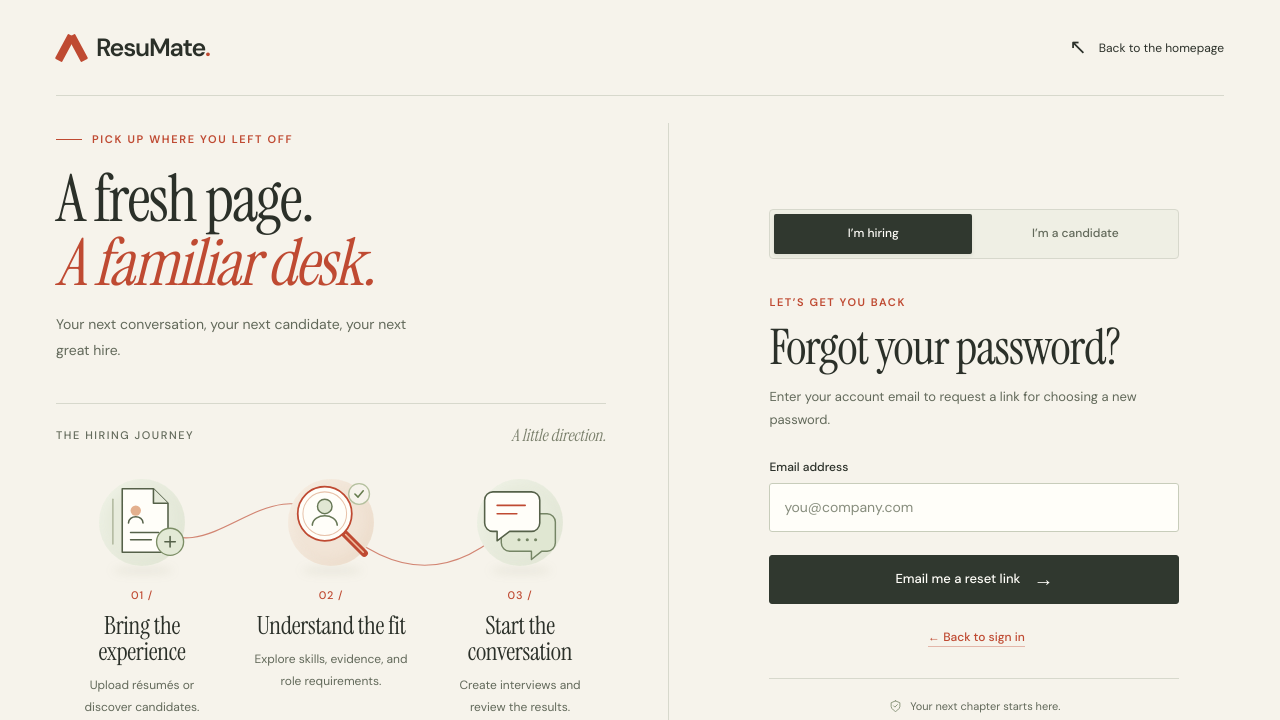
Test: asking for a link › wants an address that looks like one before sending
Click the button "Email me a reset link →". click: point(974, 579)
box: [769, 555, 1179, 604]
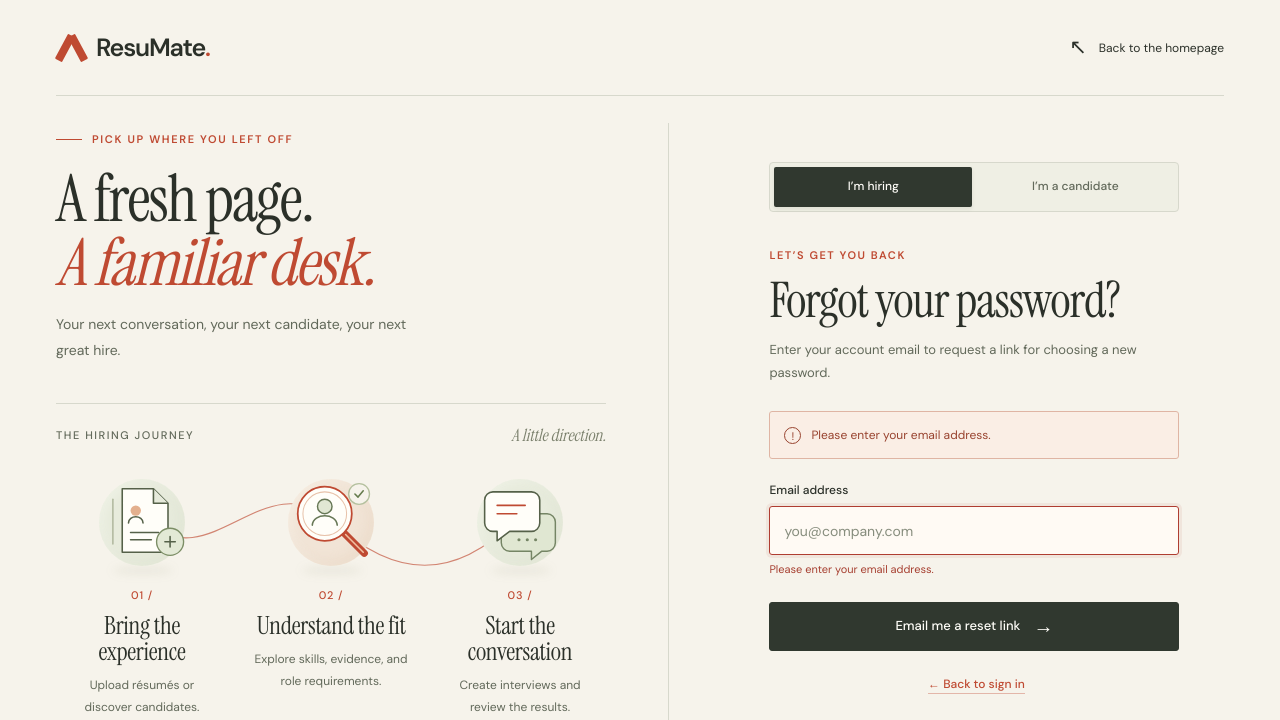
Expected: the message shows "Please enter your email address.", [811, 427, 991, 443]
Type "jane@co" into the field labelled "Email address". click: point(974, 531)
box: [769, 506, 1179, 555]
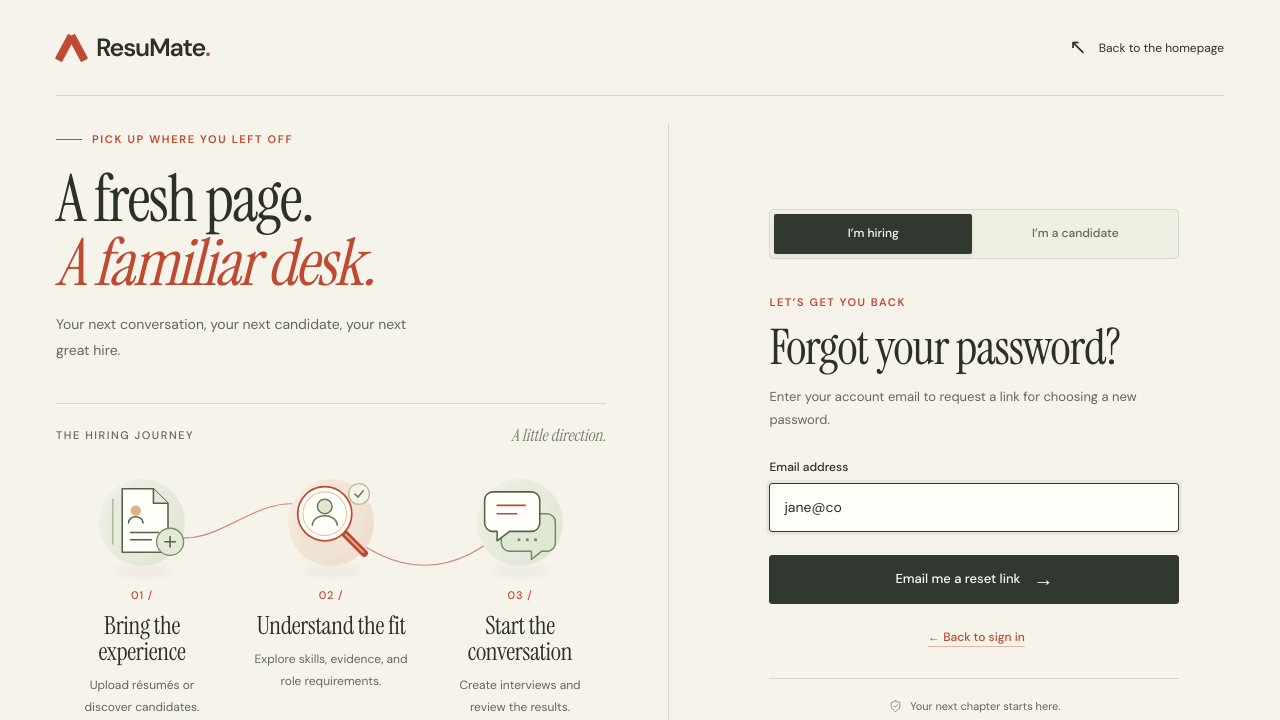
Click the button "Email me a reset link →". click: point(974, 579)
box: [769, 555, 1179, 604]
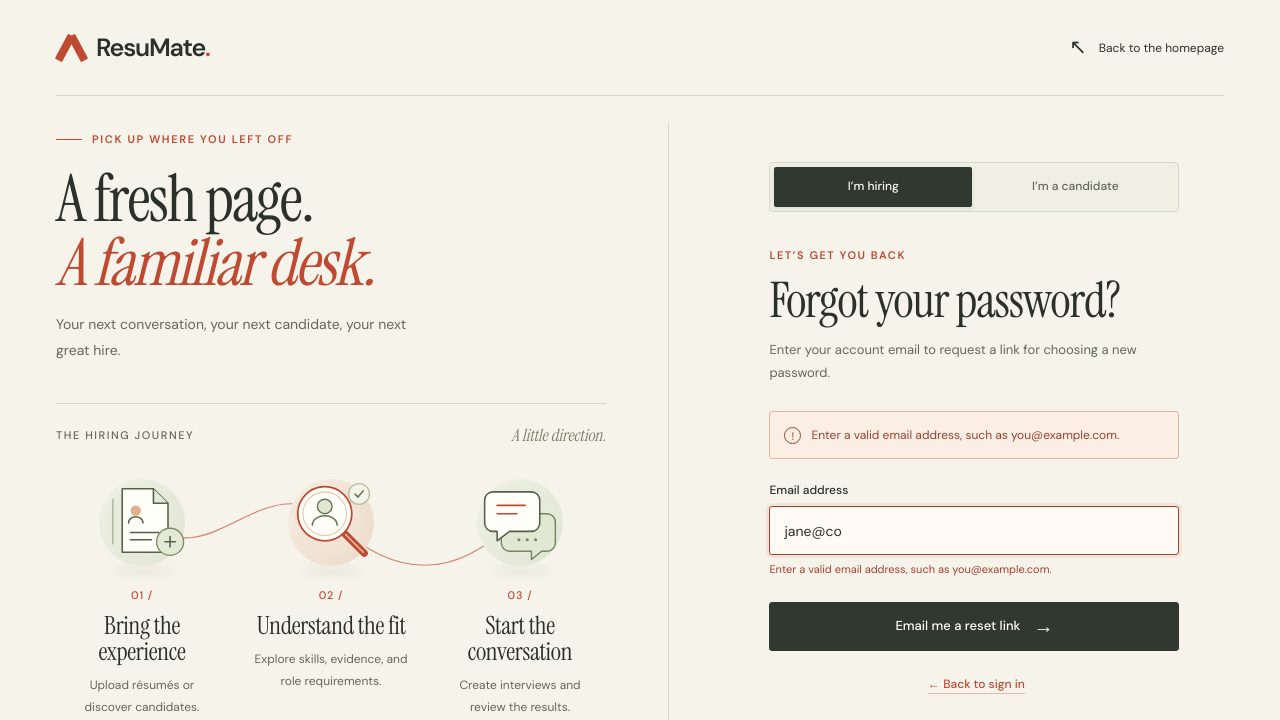
Expected: the message shows "Enter a valid email address, such as you@example.com.", [811, 427, 1119, 443]
